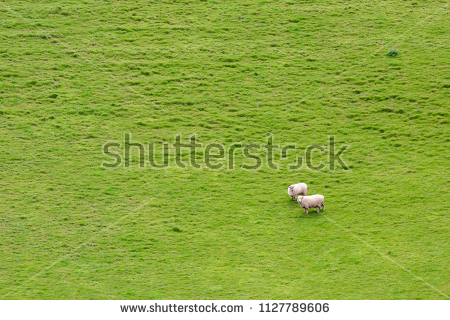sheep: (296, 195, 326, 214), (287, 182, 308, 203)
